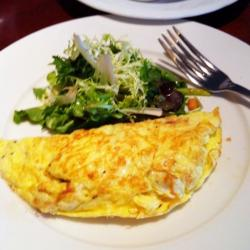omelette: (3, 112, 226, 220)
salad: (28, 41, 189, 130)
